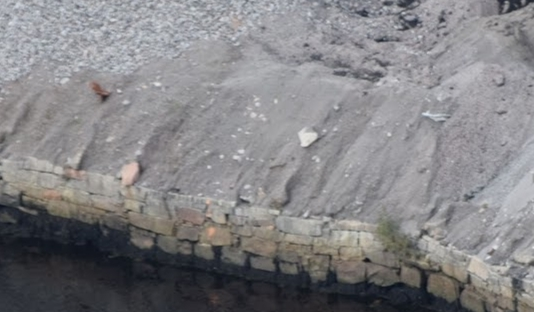white_in_green: (105, 149, 163, 197), (74, 65, 132, 113)
